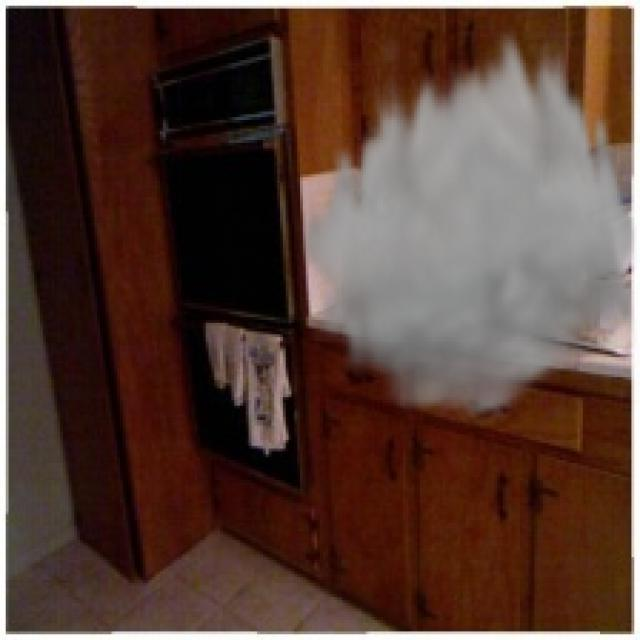Smoke: (297, 17, 637, 429)
